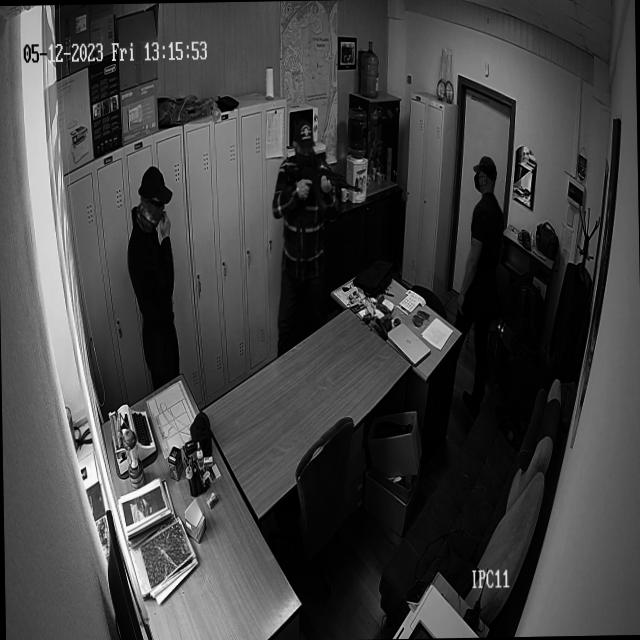gun: (284, 158, 361, 212)
person: (123, 158, 181, 370), (454, 152, 506, 338)
person with a gun: (268, 115, 366, 334), (270, 115, 344, 335)
